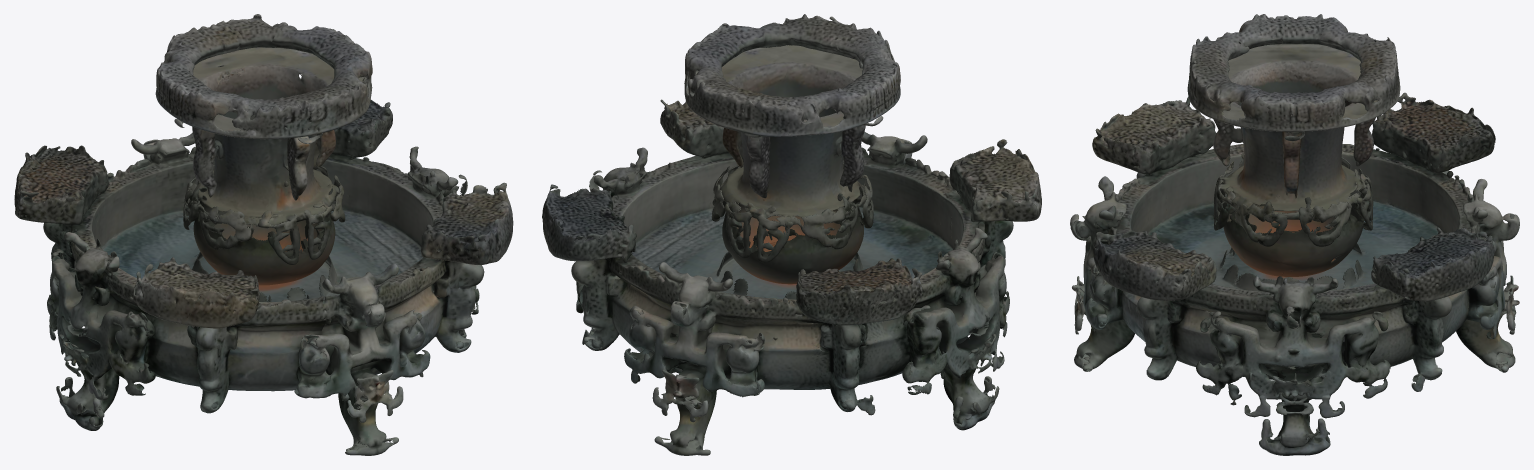
Rendered from zunpan.glb.
3 renders of one model, left to right at view 1: azimuth 30°, elevation 25°; view 2: azimuth 150°, elevation 25°; view 3: azimuth 270°, elevation 25°, orthographic. The views are drawn at different scales.
Visible parts, largest first — view 1: tripo_node_7111d333-830e-4bb0-91c1-266034c01a08; view 2: tripo_node_7111d333-830e-4bb0-91c1-266034c01a08; view 3: tripo_node_7111d333-830e-4bb0-91c1-266034c01a08.
Part boxes in pixels (<box>): tripo_node_7111d333-830e-4bb0-91c1-266034c01a08: <box>14,14,513,455</box>; tripo_node_7111d333-830e-4bb0-91c1-266034c01a08: <box>542,14,1041,455</box>; tripo_node_7111d333-830e-4bb0-91c1-266034c01a08: <box>1070,14,1519,455</box>.
Size of the model in its own units: 1 by 0.7651 by 0.9951.
Materials: 1 (1 with a texture image).
